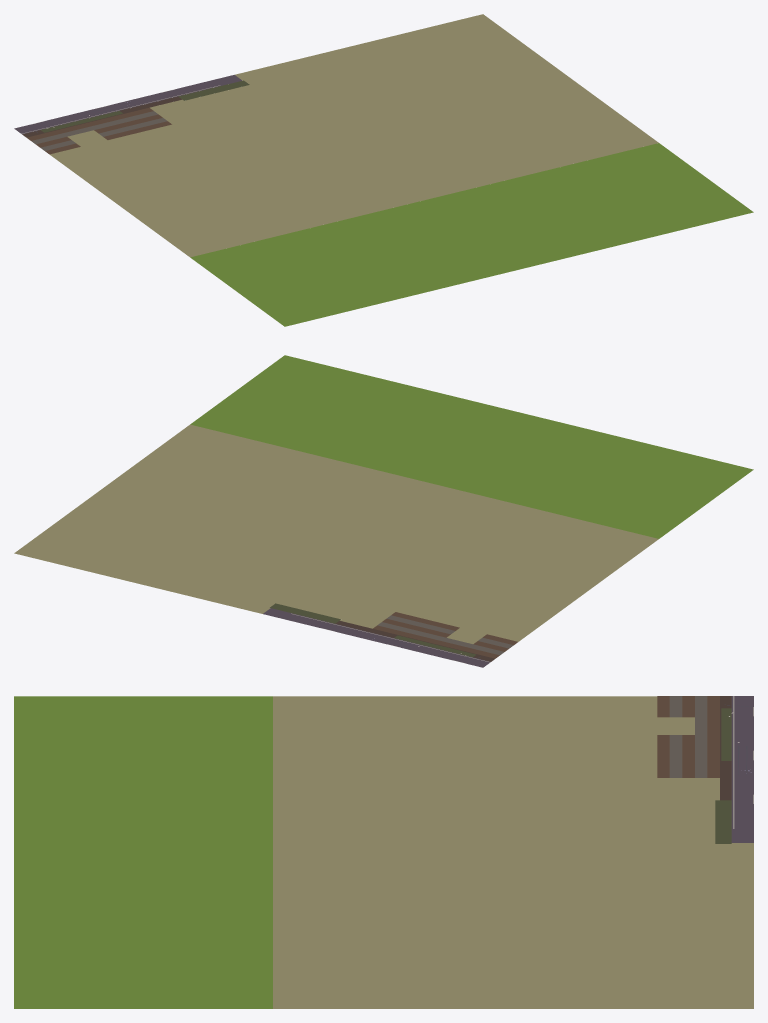
Rendered from cure-12-3.glb.
The picture shows the model from 3 angles, top to bottom: view 1: azimuth 30°, elevation 25°; view 2: azimuth 150°, elevation 25°; view 3: azimuth 270°, elevation 25°; orthographic projection. The views are drawn at different scales.
Visible parts, largest first — view 1: cure-12-3; view 2: cure-12-3; view 3: cure-12-3.
Boxes of the visible parts, x1,y1,x2,y2 form: cure-12-3: [14, 14, 753, 326]; cure-12-3: [14, 355, 753, 667]; cure-12-3: [14, 696, 753, 1008].
Size of the model in its own units: 100 by 0.017 by 100.
